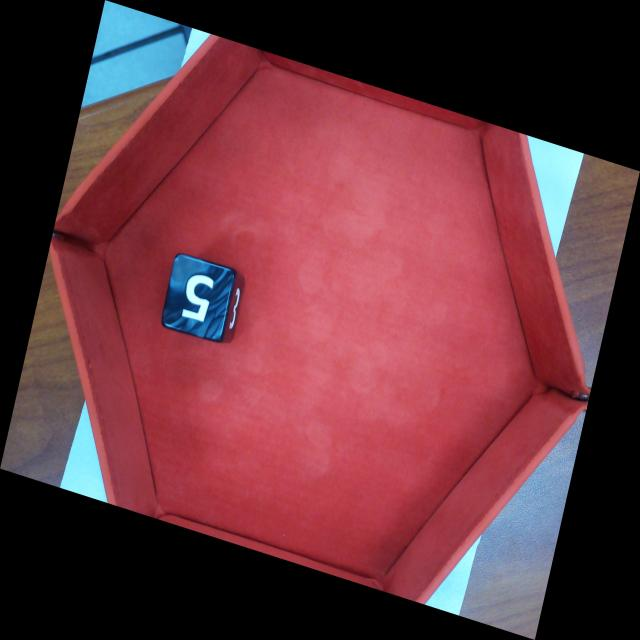dice: (160, 252, 238, 345)
